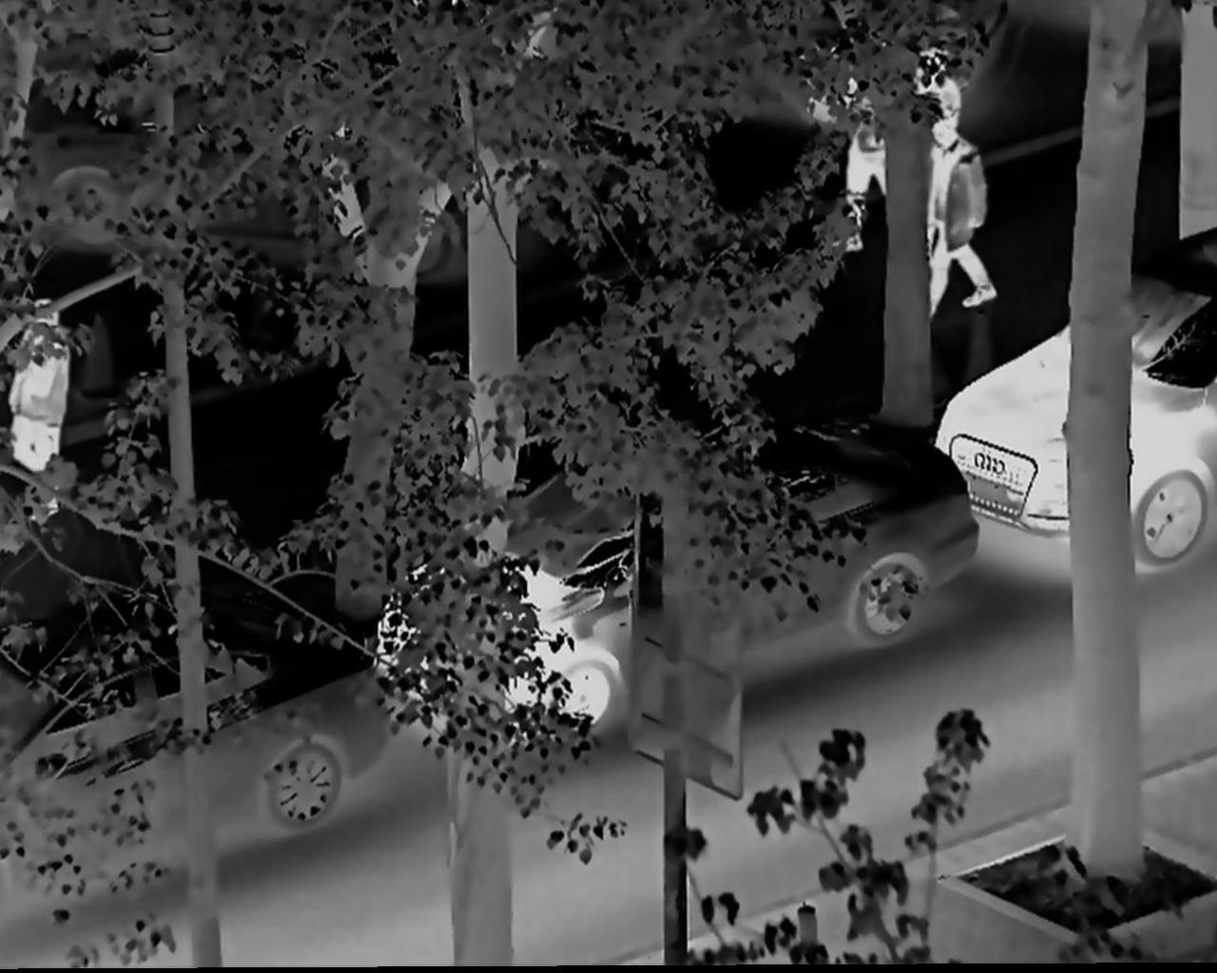person: (918, 110, 1003, 316), (7, 291, 77, 509)
